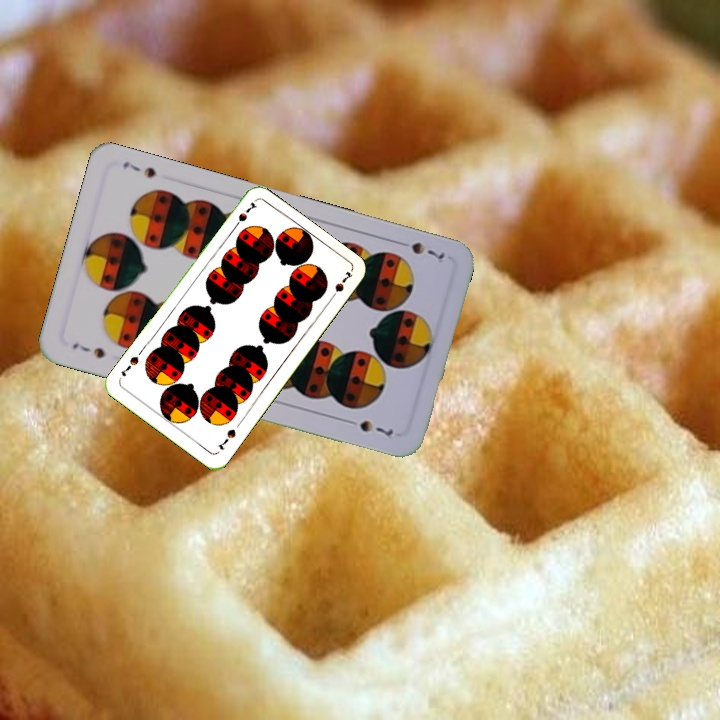S7: (392, 236, 448, 262), (229, 198, 259, 232), (68, 339, 107, 362), (213, 425, 238, 452)
